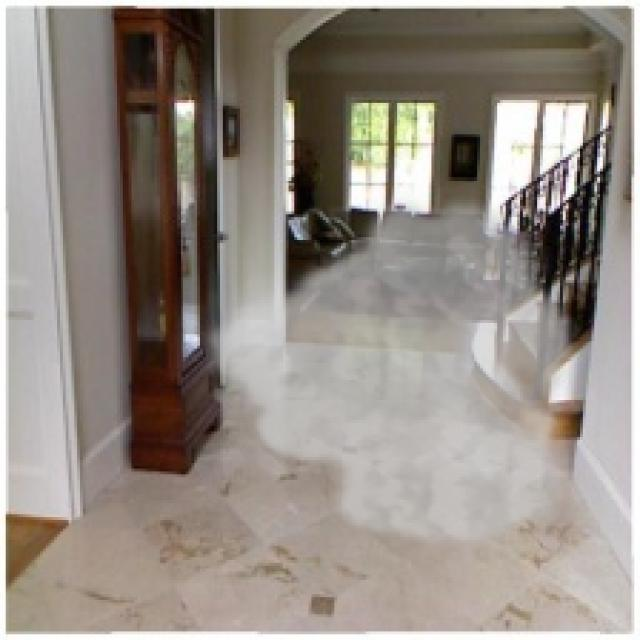Smoke: (200, 188, 580, 554)
